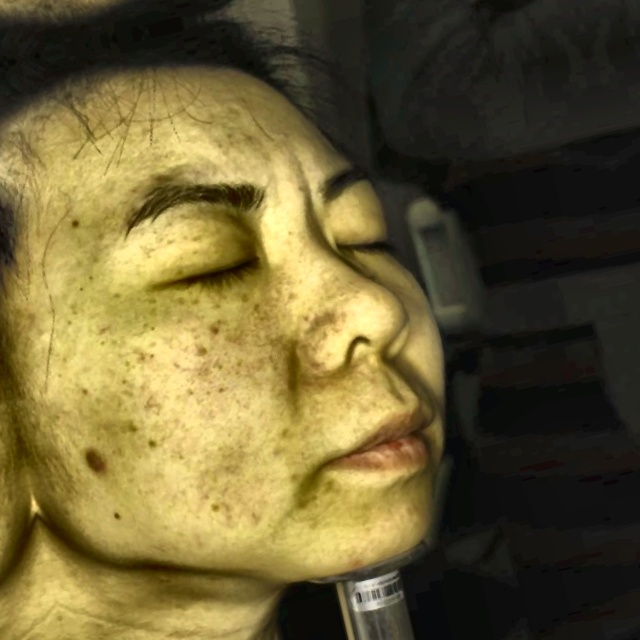comedone: (76, 442, 116, 484), (329, 545, 368, 577)
